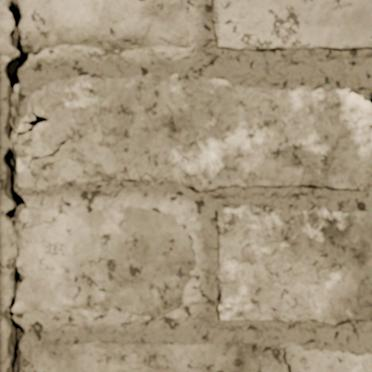brick: (14, 74, 371, 192), (216, 205, 371, 324), (27, 341, 371, 371), (212, 0, 371, 49)
broken_brick: (14, 205, 196, 321), (17, 0, 189, 55), (0, 213, 15, 322), (0, 0, 17, 58)
crack: (1, 0, 49, 371)
